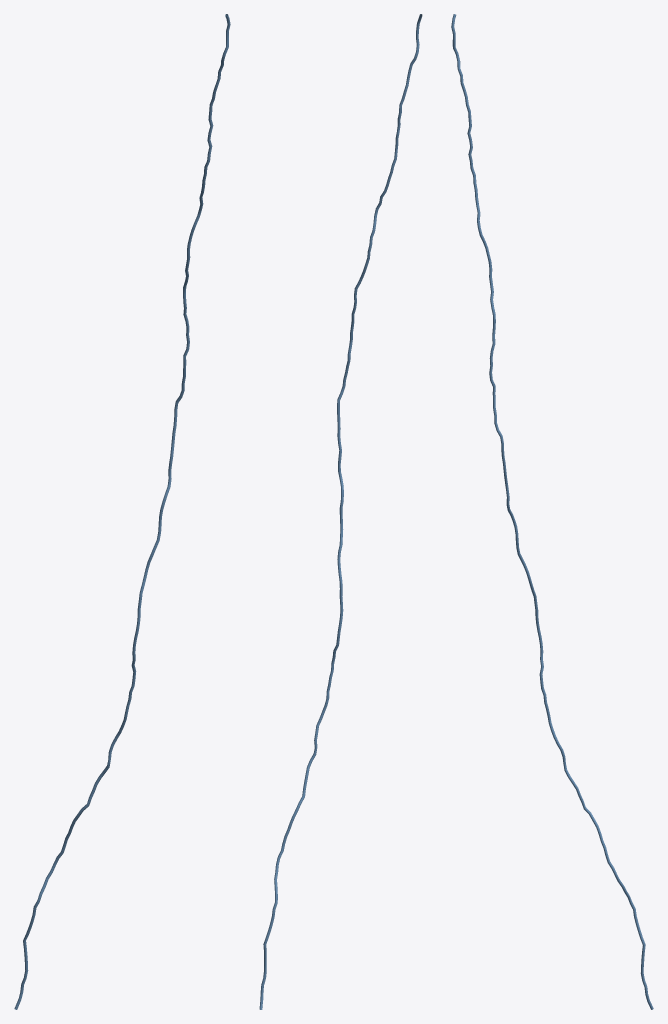
The model's file is sweep32.fbx.
3 renders of one model, left to right at view 1: azimuth 90°, elevation 25°; view 2: azimuth 150°, elevation 25°; view 3: azimuth 270°, elevation 25°, orthographic. The views are drawn at different scales.
Parts seen in each view (by area): view 1: sweep32; view 2: sweep32; view 3: sweep32.
Boxes of the visible parts, x1,y1,x2,y2 form: sweep32: (14,14,230,1009); sweep32: (259,14,422,1009); sweep32: (451,14,653,1009).
Size of the model in its own units: 0.5421 by 7.19 by 1.37.
